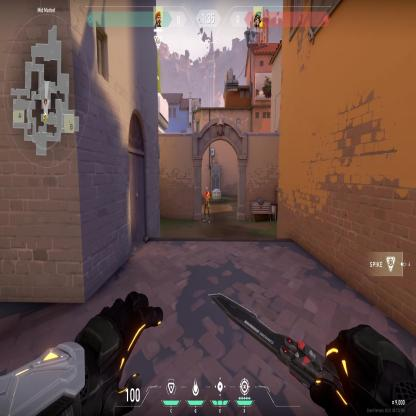enemy: (203, 186, 210, 223)
